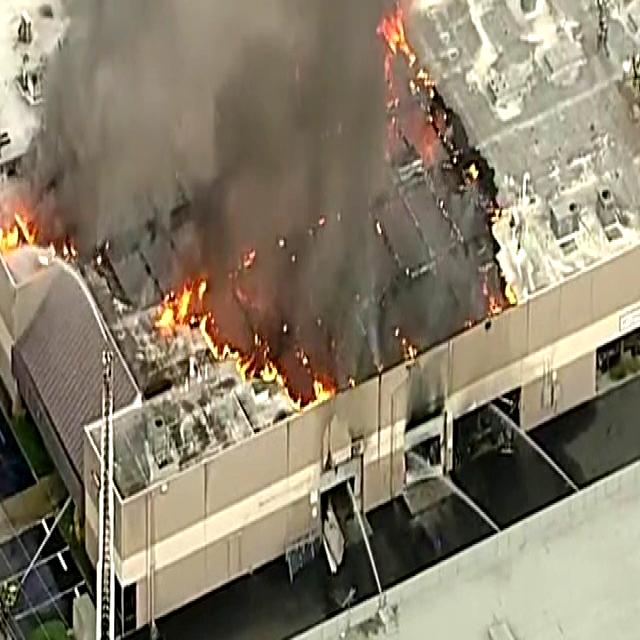smoke: (131, 0, 405, 279)
